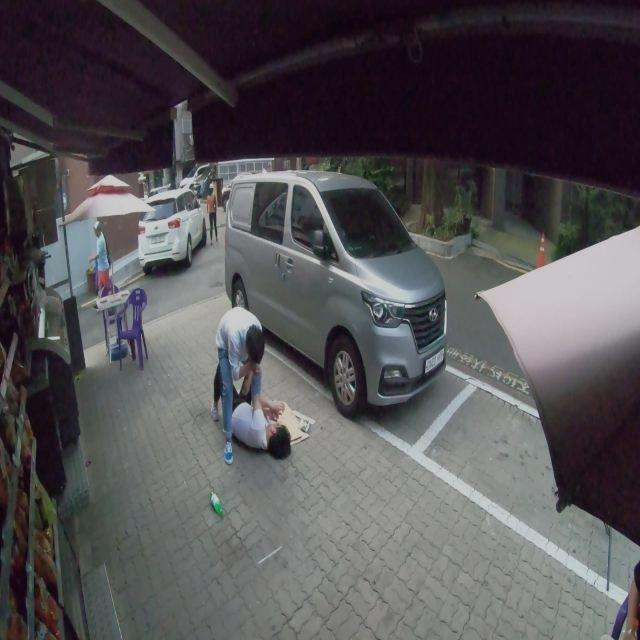fight: (208, 302, 297, 466)
non-fight: (86, 220, 113, 290), (202, 186, 221, 246)
